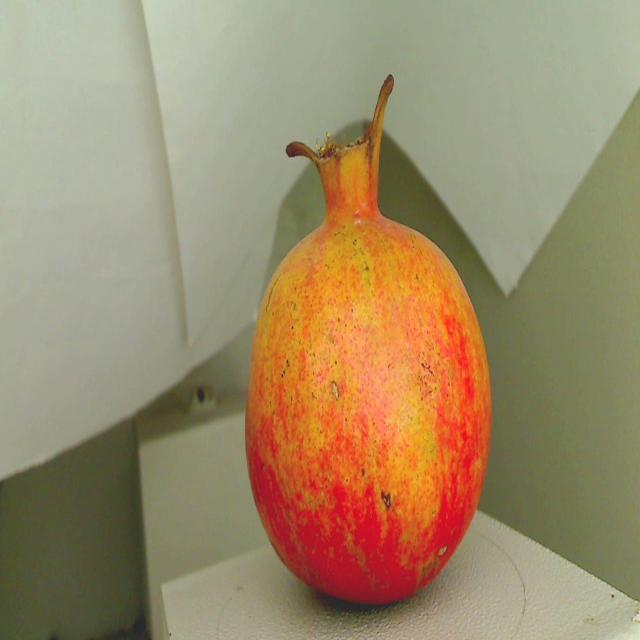pomegranate: (234, 96, 503, 616)
